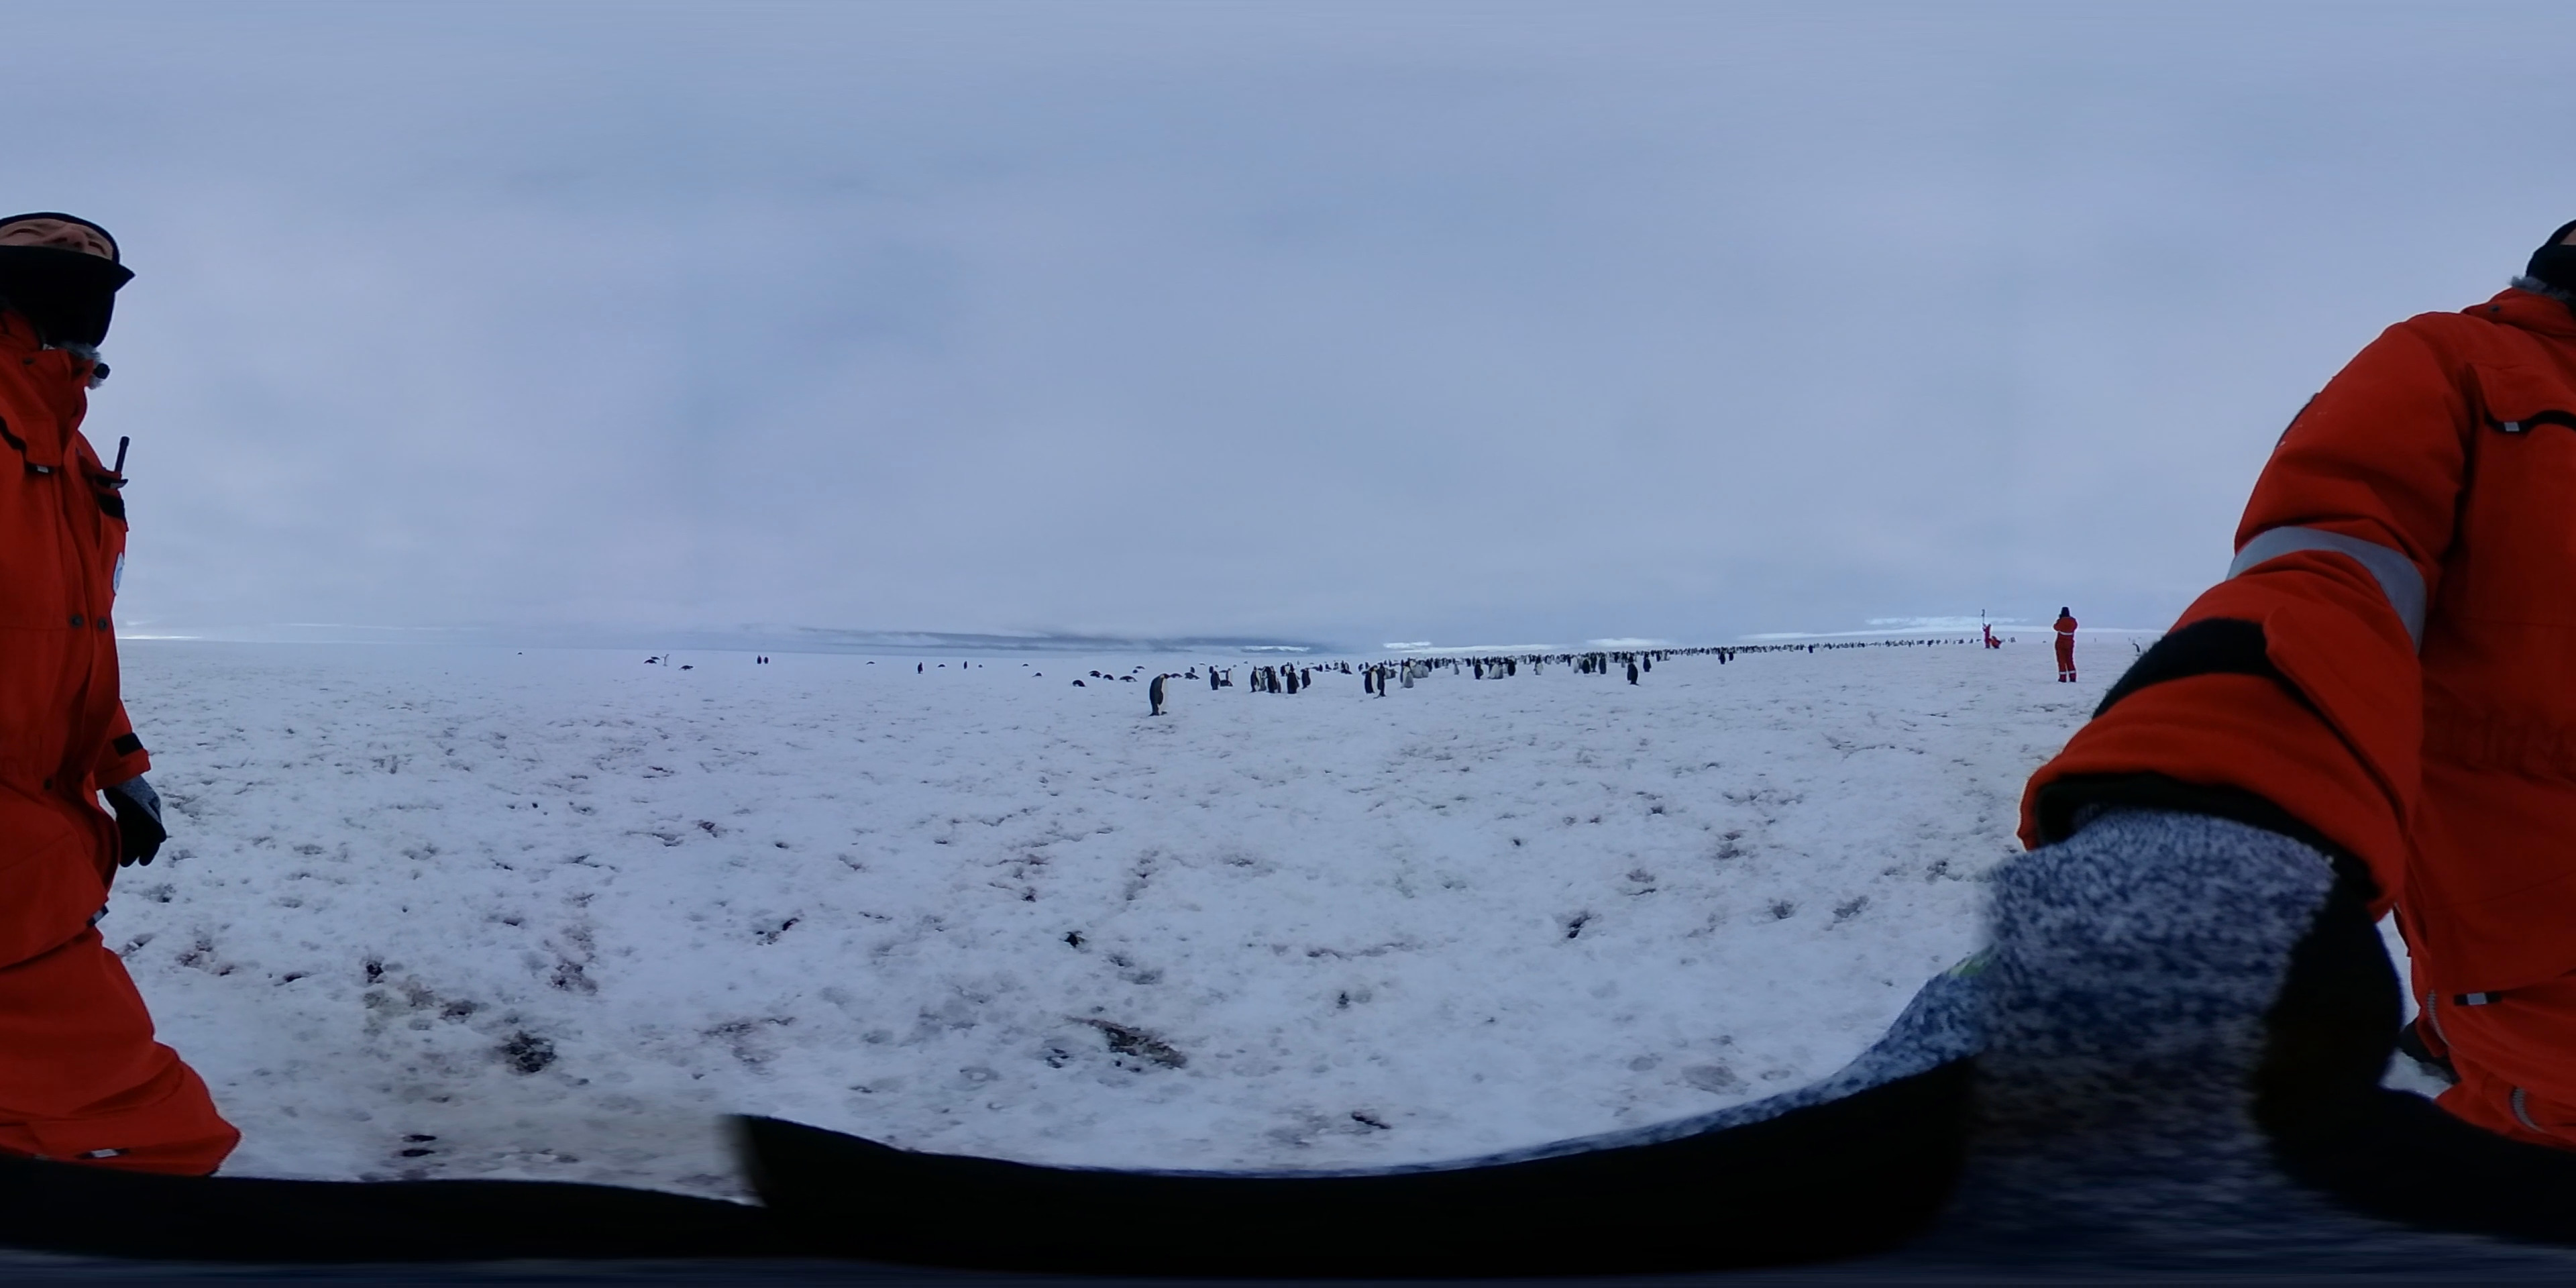adult_standing_penguin: (1147, 674, 1171, 718), (1368, 665, 1387, 703), (1626, 657, 1640, 685), (1288, 665, 1299, 697), (1209, 670, 1222, 692)
adult_toboggan_penguin: (1071, 677, 1088, 687)
juvenile_penguin: (1403, 670, 1414, 690)
researcher: (2058, 207, 2576, 1171), (0, 194, 187, 1288), (2050, 605, 2083, 683)
